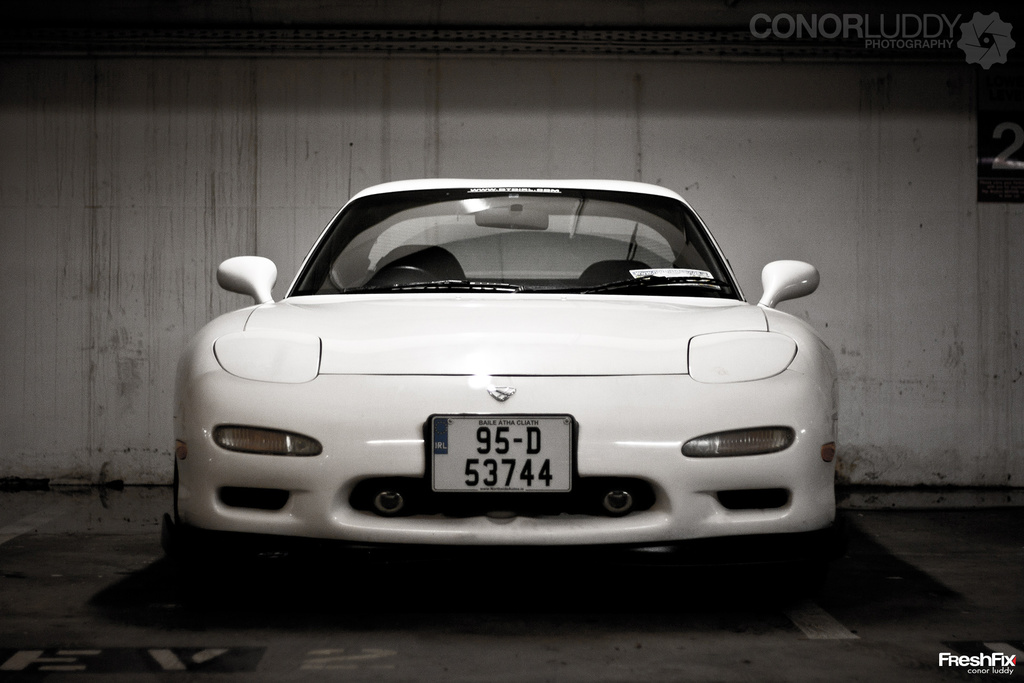Car: (168, 174, 842, 579)
